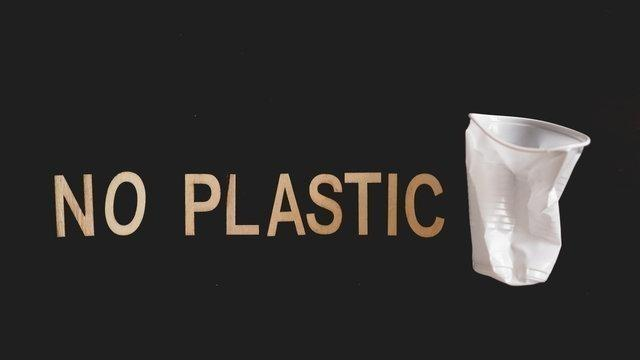cup-disposable: (464, 109, 592, 288)
